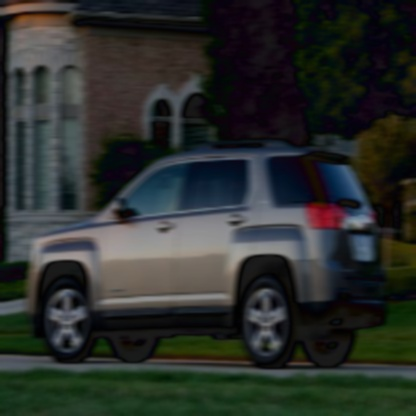Vehicle: (26, 138, 388, 370)
